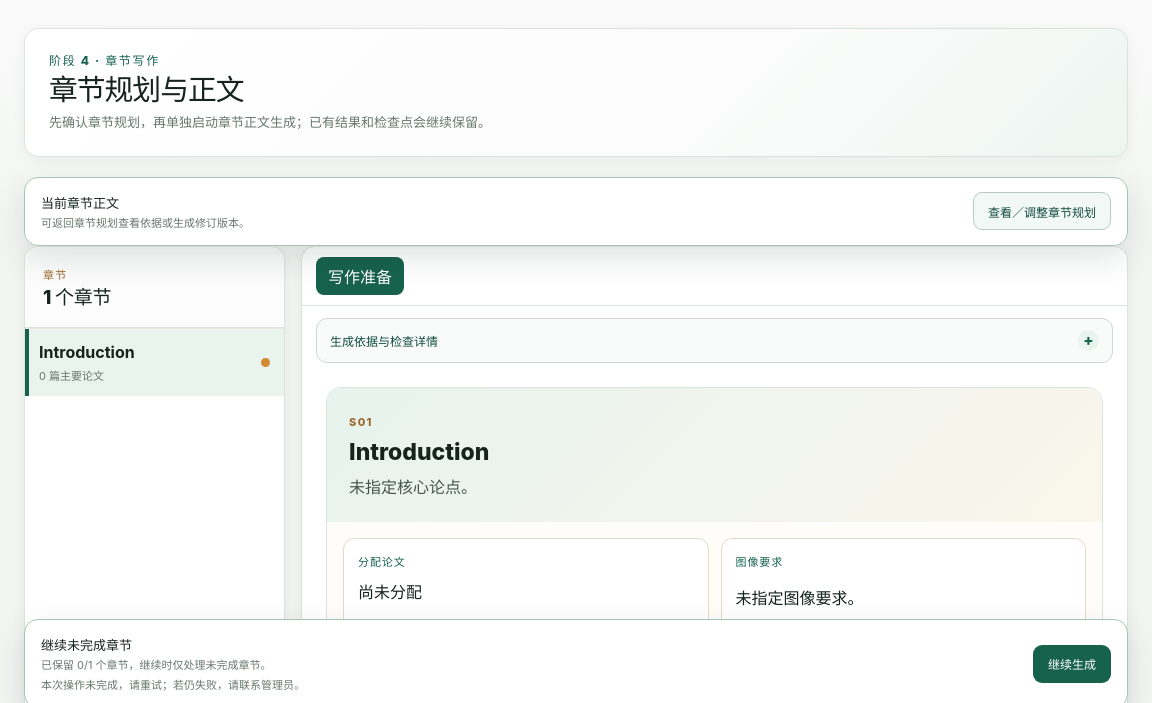
Test: stage 04 chapter-planning handoff › uses a fresh generation when old retry inputs are stale (changed after load: true)
Click the button "继续生成" at x=1072, y=664, box [1033,644,1111,682]
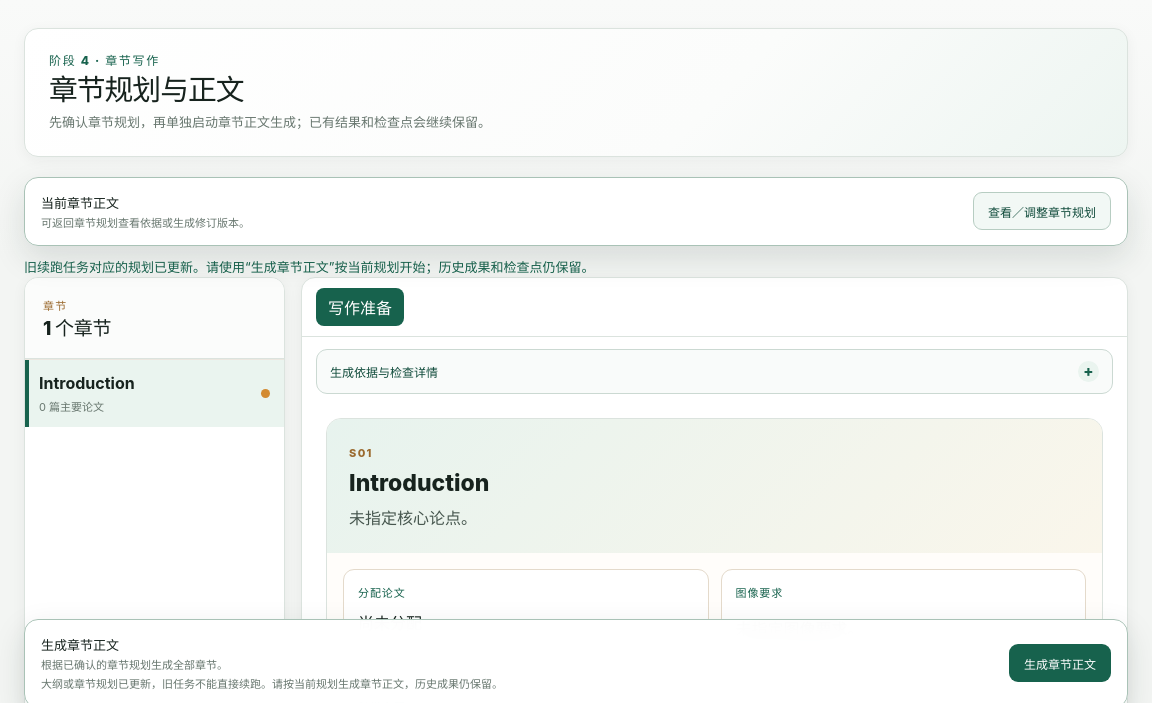
Expected: the button "生成章节正文" is enabled, [1009,644,1111,682]
Result: the button "继续生成" is gone
Result: the text "旧续跑任务对应的规划已更新。请使用“生成章节正文”按当前规划开始；历史成果和检查点仍保留。" is shown at [24,259,594,275]
